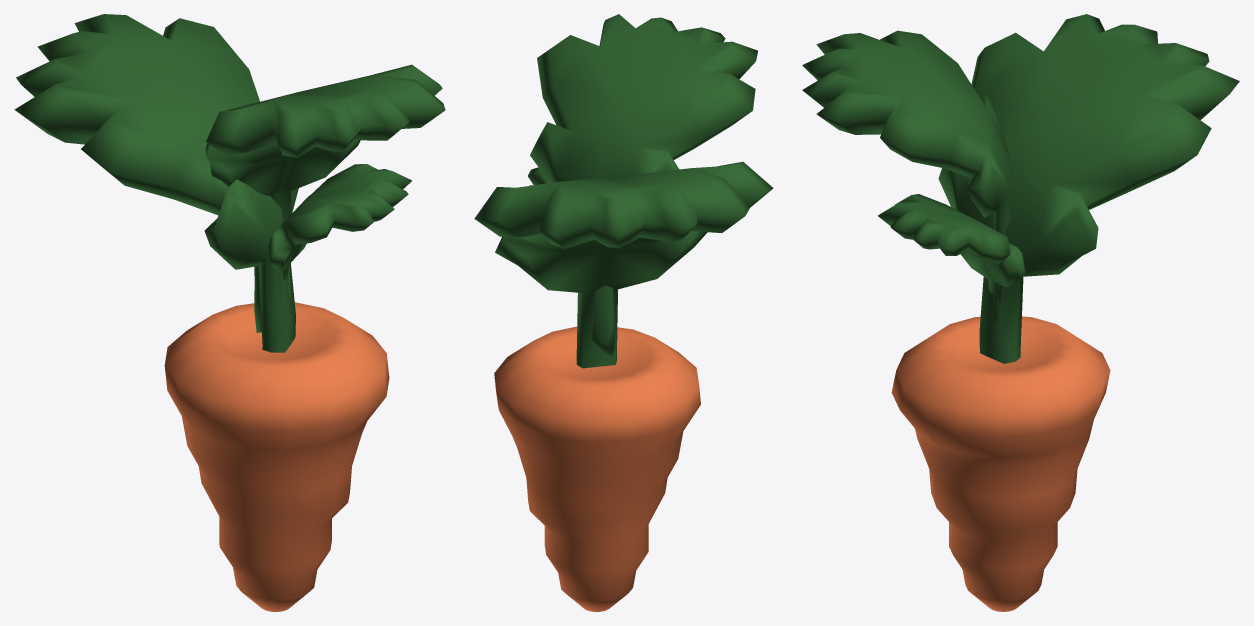
The model's file is agronomy_carrot_final.fbx.
3 renders of one model, left to right at view 1: azimuth 30°, elevation 25°; view 2: azimuth 150°, elevation 25°; view 3: azimuth 270°, elevation 25°, orthographic. The views are drawn at different scales.
Visible parts, largest first — view 1: final_carrot, carrot; view 2: final_carrot, carrot; view 3: final_carrot, carrot.
Part boxes in pixels (<box>): final_carrot: <box>14,14,445,352</box>; carrot: <box>164,302,389,611</box>; final_carrot: <box>474,14,773,368</box>; carrot: <box>494,326,700,611</box>; final_carrot: <box>802,14,1239,363</box>; carrot: <box>891,316,1110,611</box>.
Size of the model in its own units: 44.69 by 74.42 by 54.41.
